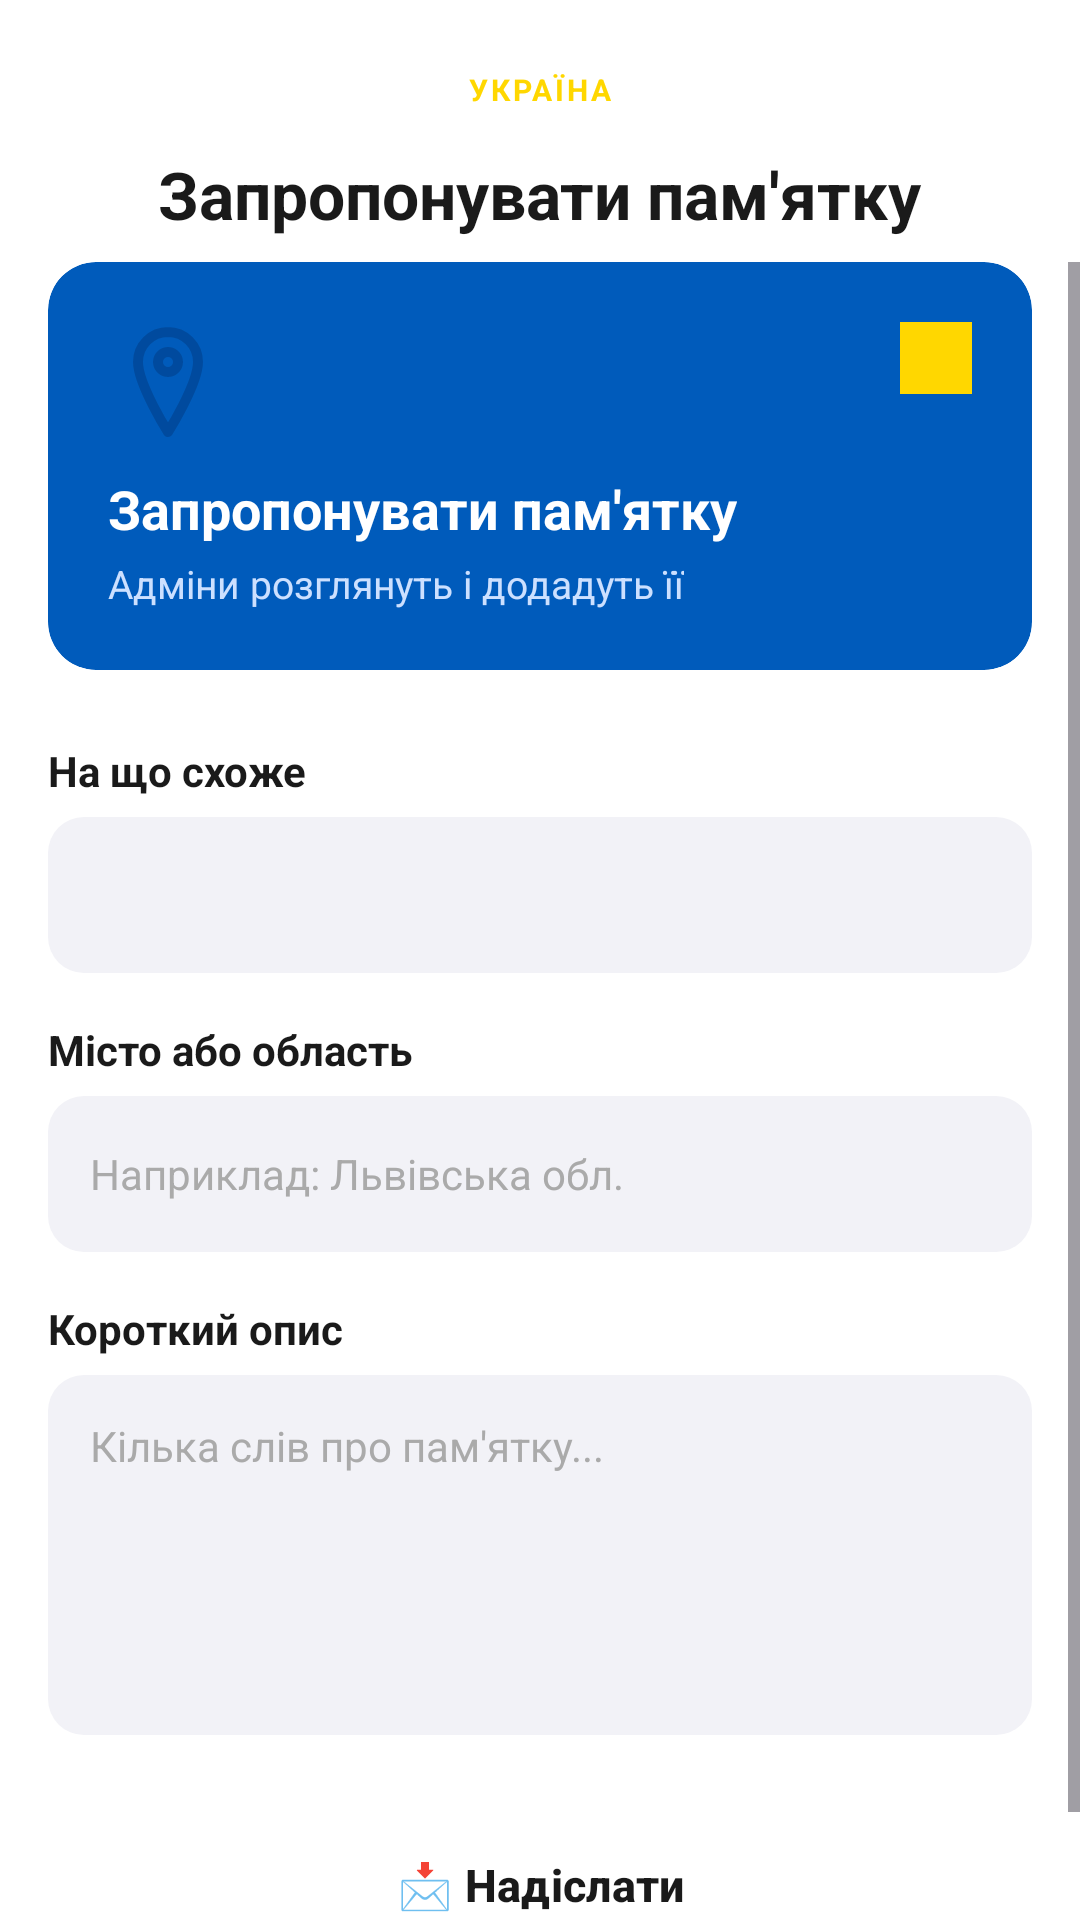

Icon bounding boxes for this 1080 × 1920 phone screenshot, format bbox=(x1, y1, x2, y2):
location: bbox=(133, 328, 203, 437)
